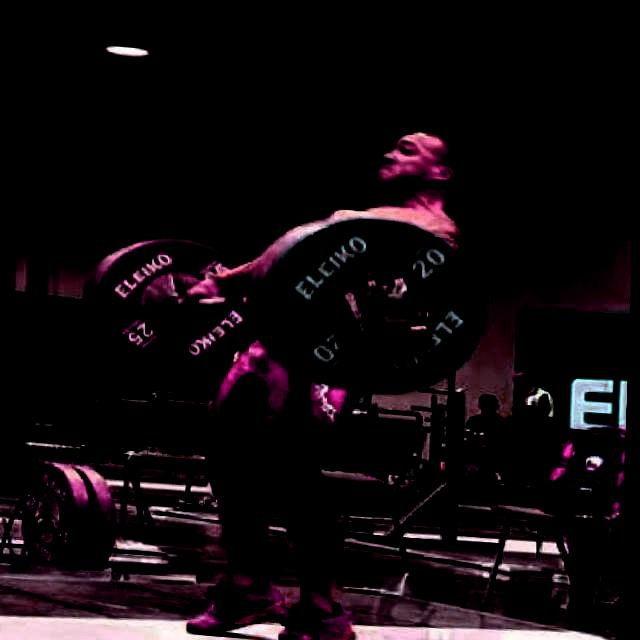barbell: (267, 200, 492, 399)
